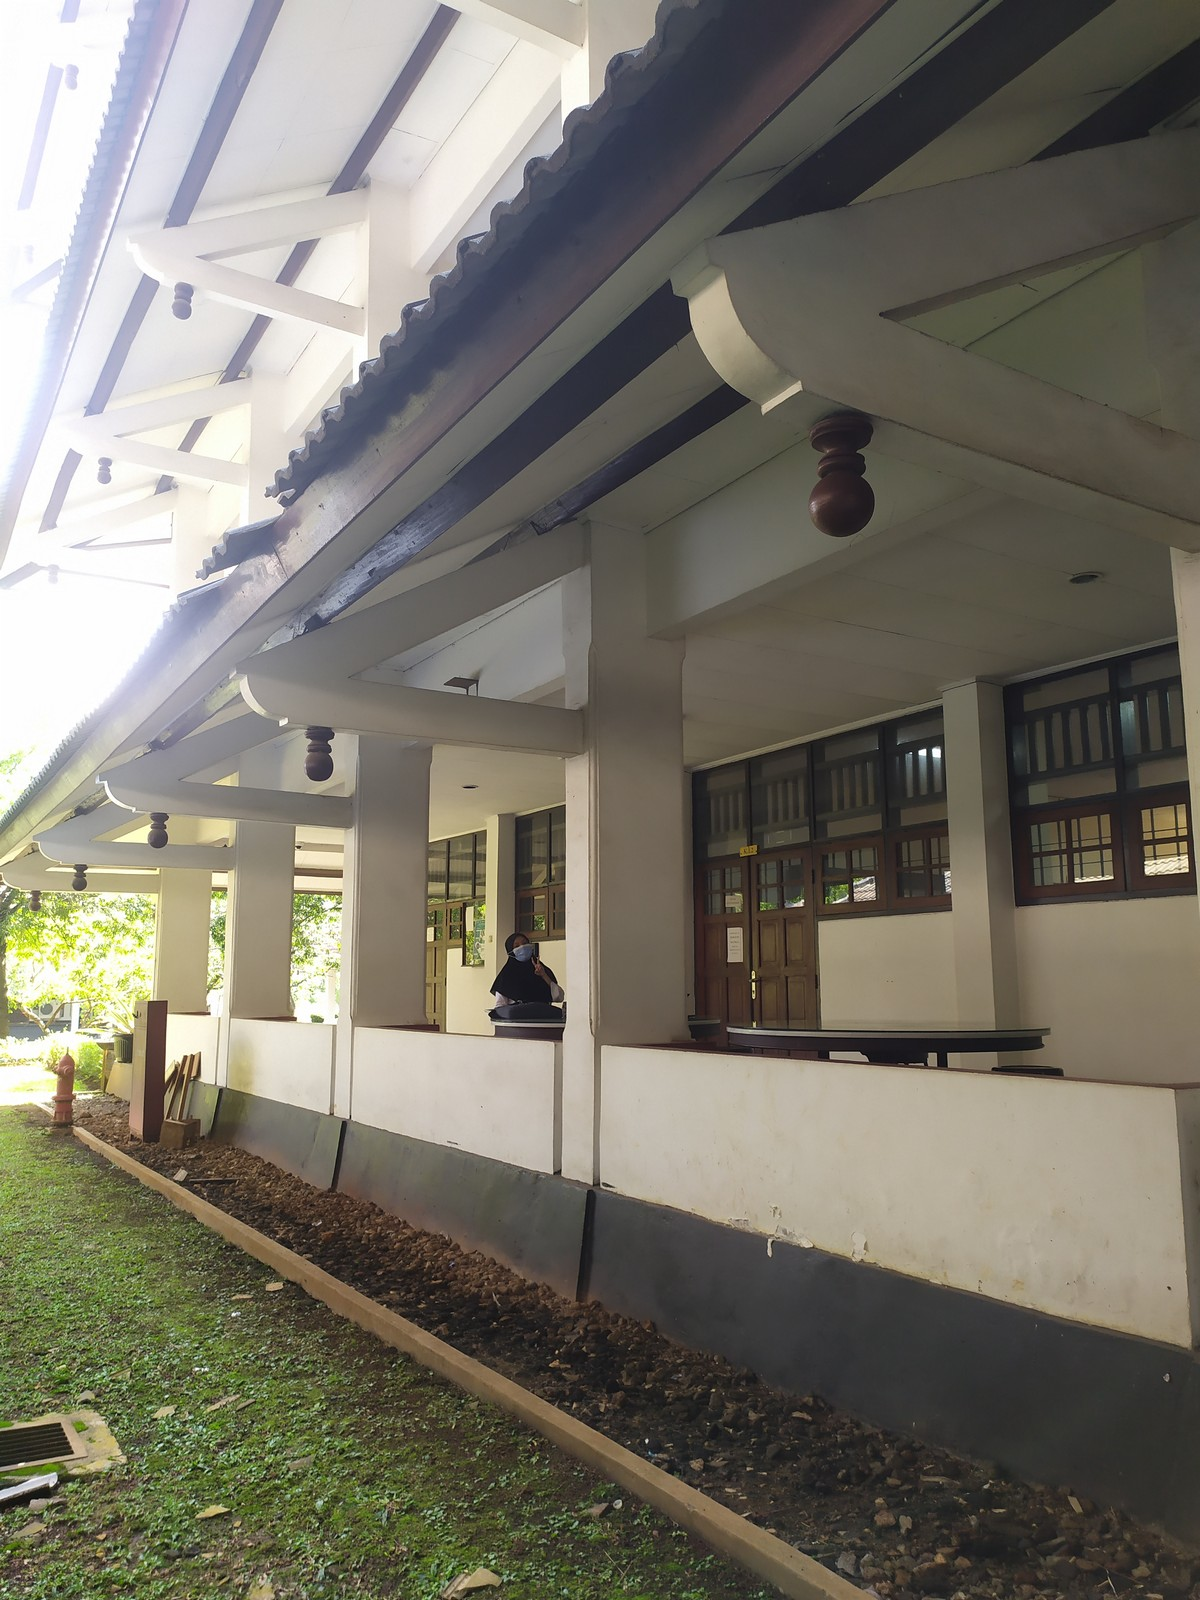concrete beam: (901, 346, 1194, 563), (342, 682, 596, 769), (211, 270, 371, 344)
concrete column: (560, 755, 687, 1180), (342, 821, 437, 1094), (221, 874, 299, 1058)
